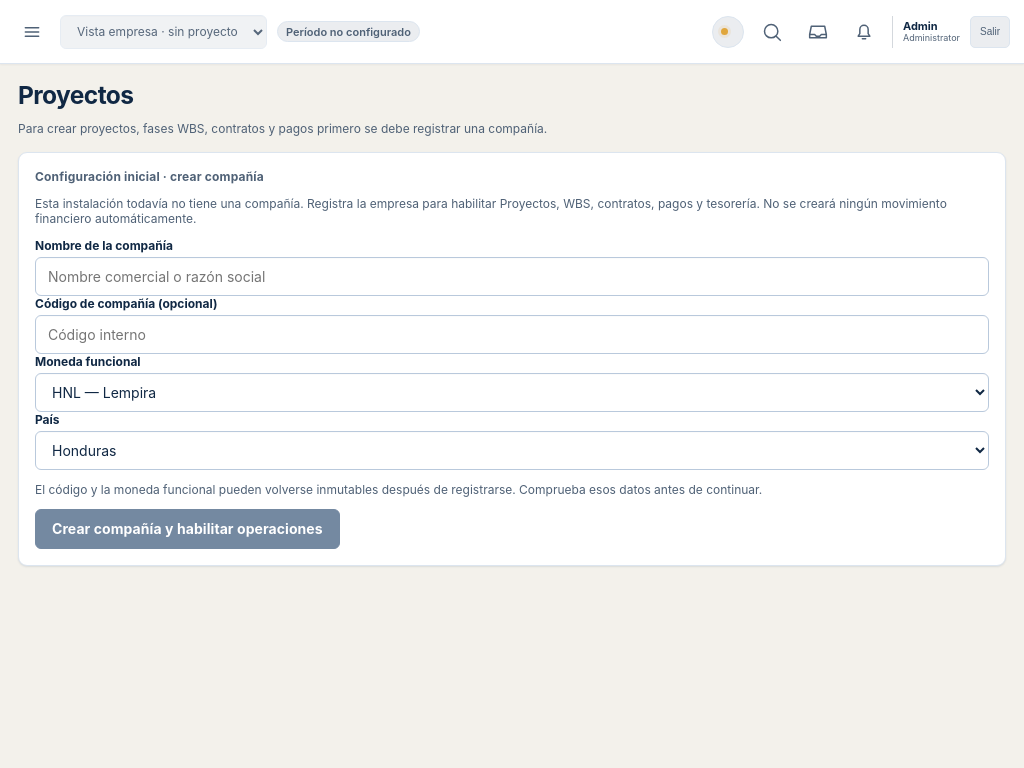
Test: ProjectsPage › creates the first company from Projects and enables the guided project wizard
This screenshot has width=1024, height=768.
Type "S4P Construcción" into the field labelled "Nombre de la compañía". click: (512, 276)
box: [35,256,989,296]
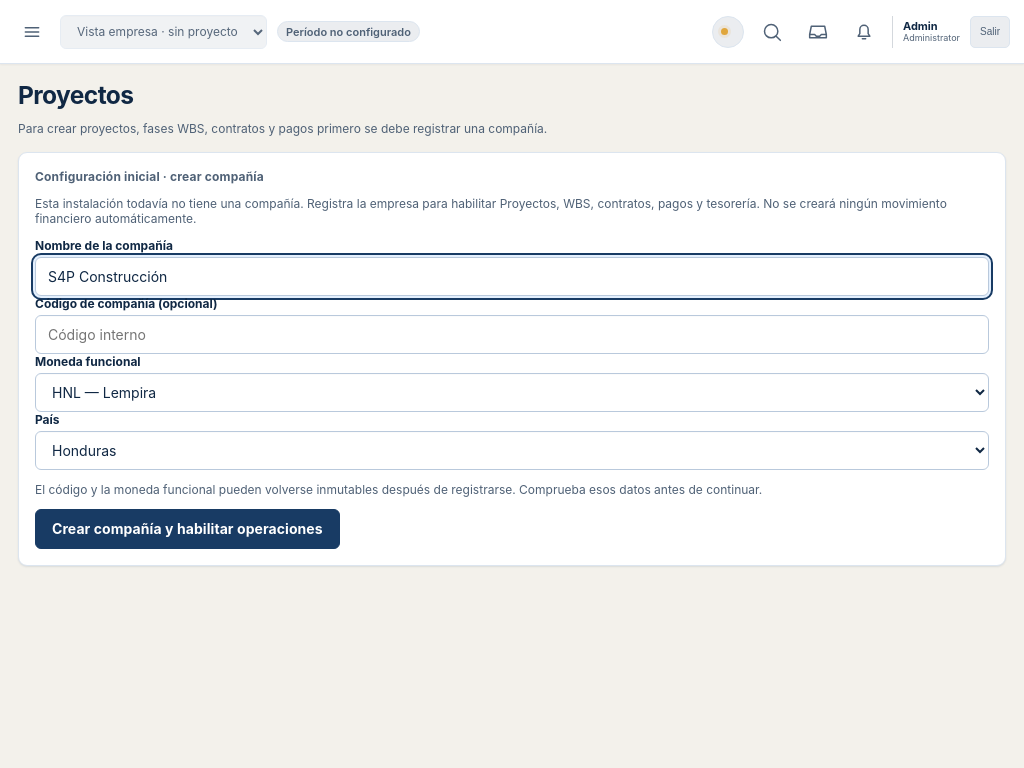
Click the button "Crear compañía y habilitar operaciones". click: (187, 528)
box: [35,508,340,548]
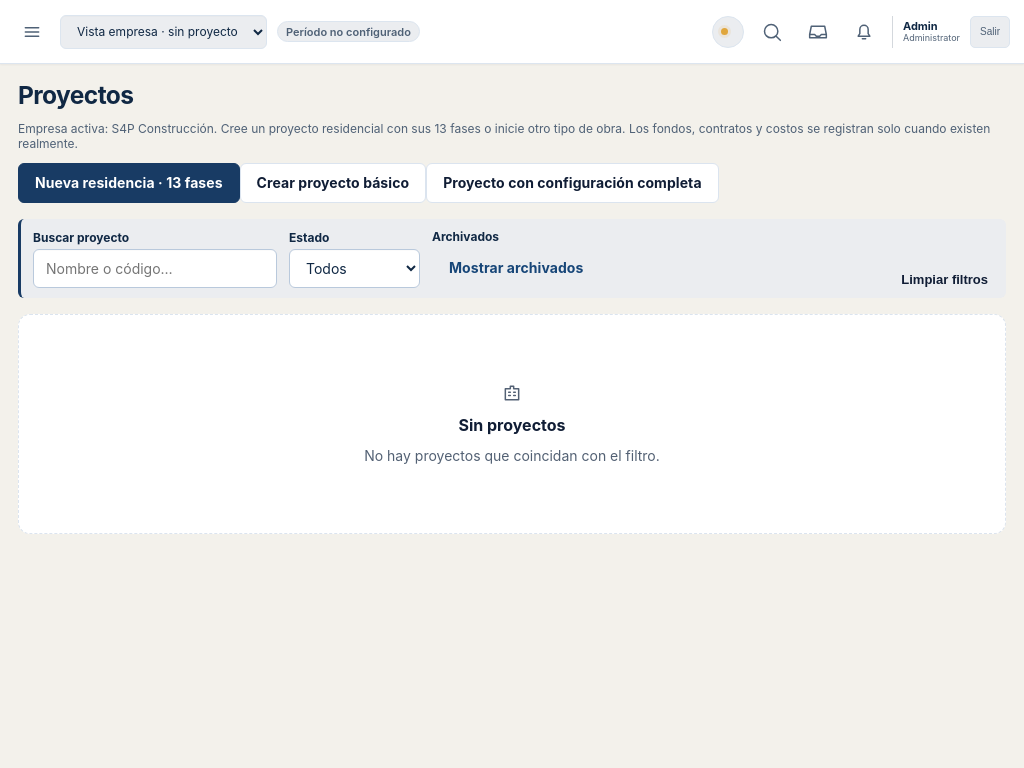
Check: the button "Proyecto con configuración completa" is shown, box [426,162,719,202]
